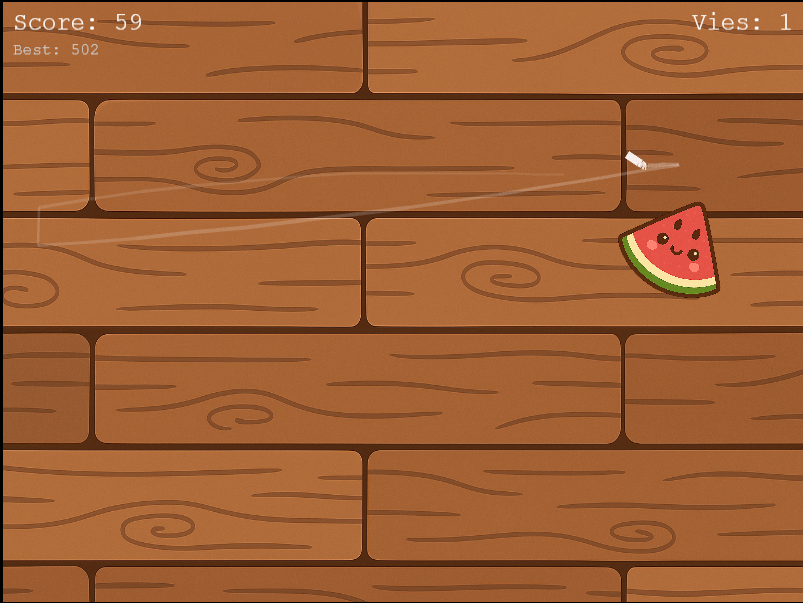fruit: (617, 199, 727, 302)
